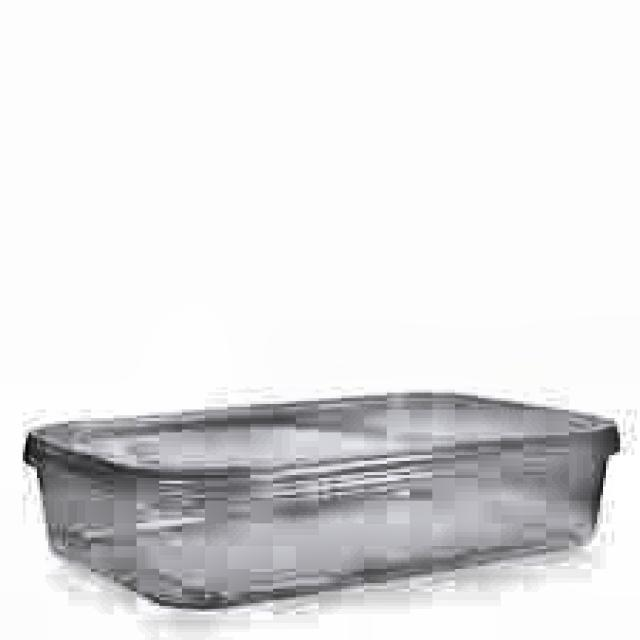plastic container: (26, 394, 619, 606)
